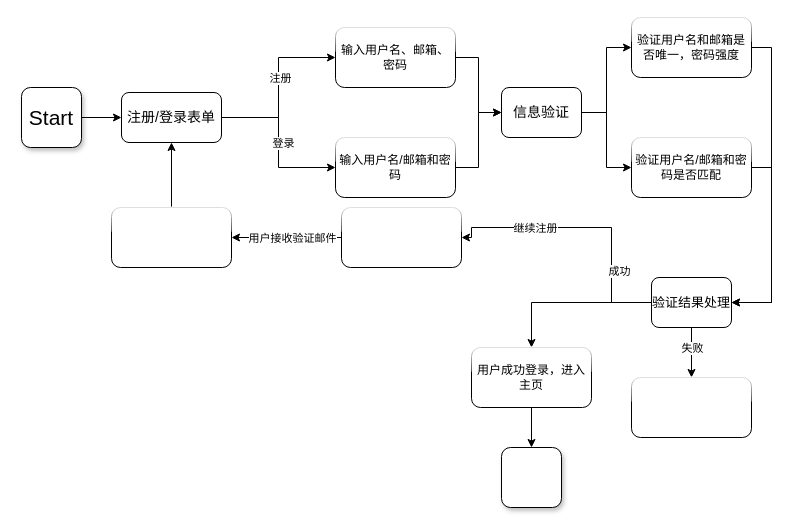
Some shapes in this 797 by 532 pixel diagram are drawn without their labels. Each missing label, with the centre of its shape:
Next: point 532,478
保存用户数据，发送验证邮件: point 401,237
用户点击验证链接激活账户: point 171,237
返回错误信息（用户名已存在、邮箱已存在等: point 691,407
